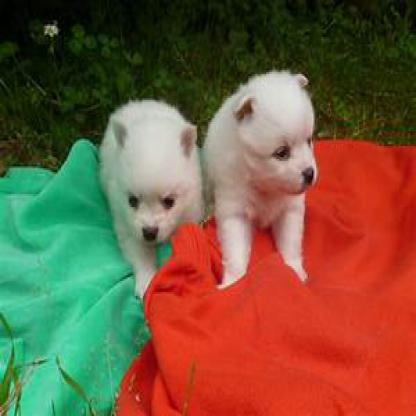dog: (202, 68, 318, 288), (98, 102, 206, 298)
